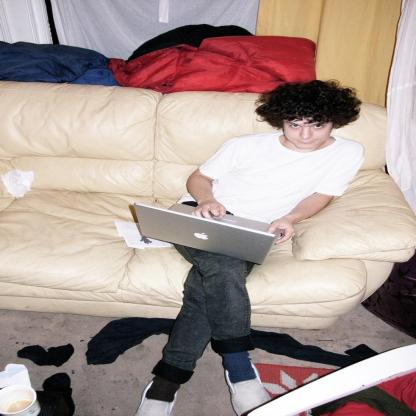board: (129, 202, 284, 266), (0, 386, 43, 416)
